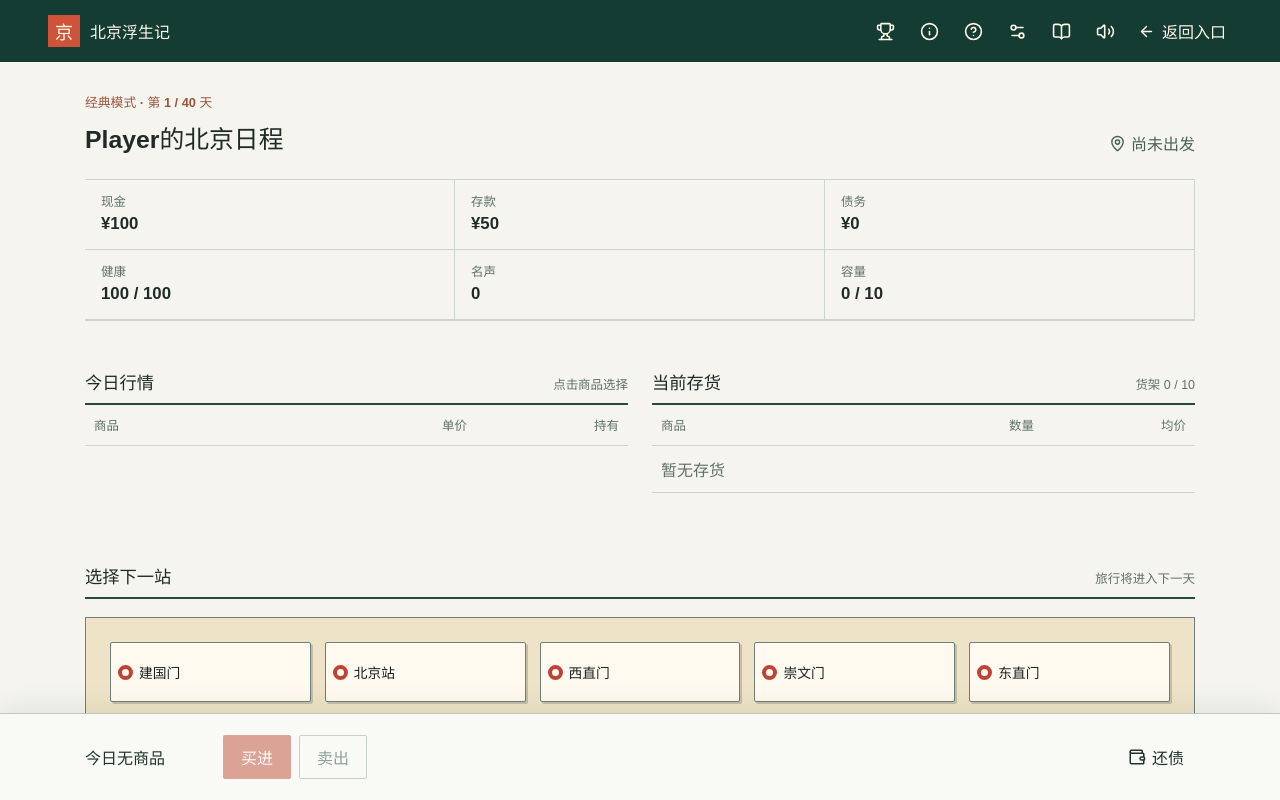
auxiliary views › offers rules and local-save help from the game
Click the button named "帮助" at (974,31), box [956,13,992,49]
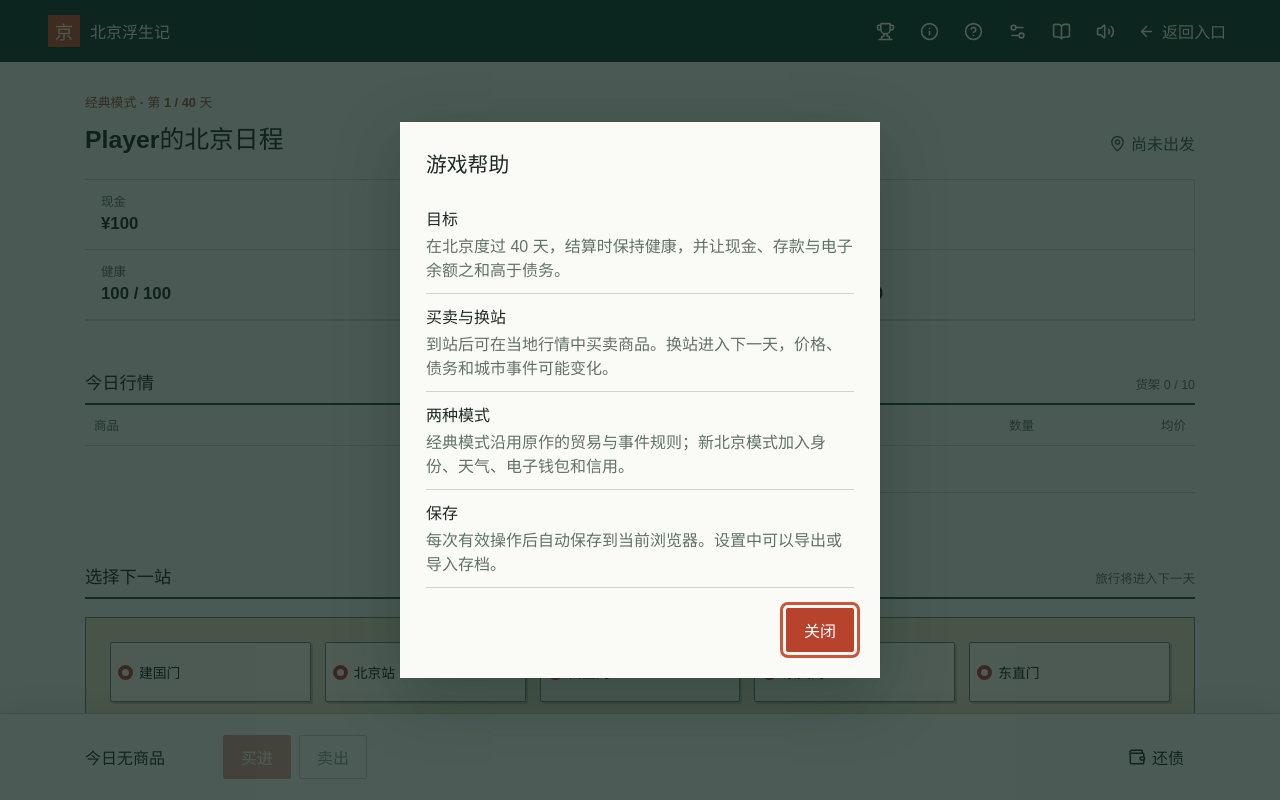
Now the dialog "游戏帮助" shows "40 天", box [426,238,853,279]
Now the dialog "游戏帮助" shows "自动保存", box [426,532,842,573]
